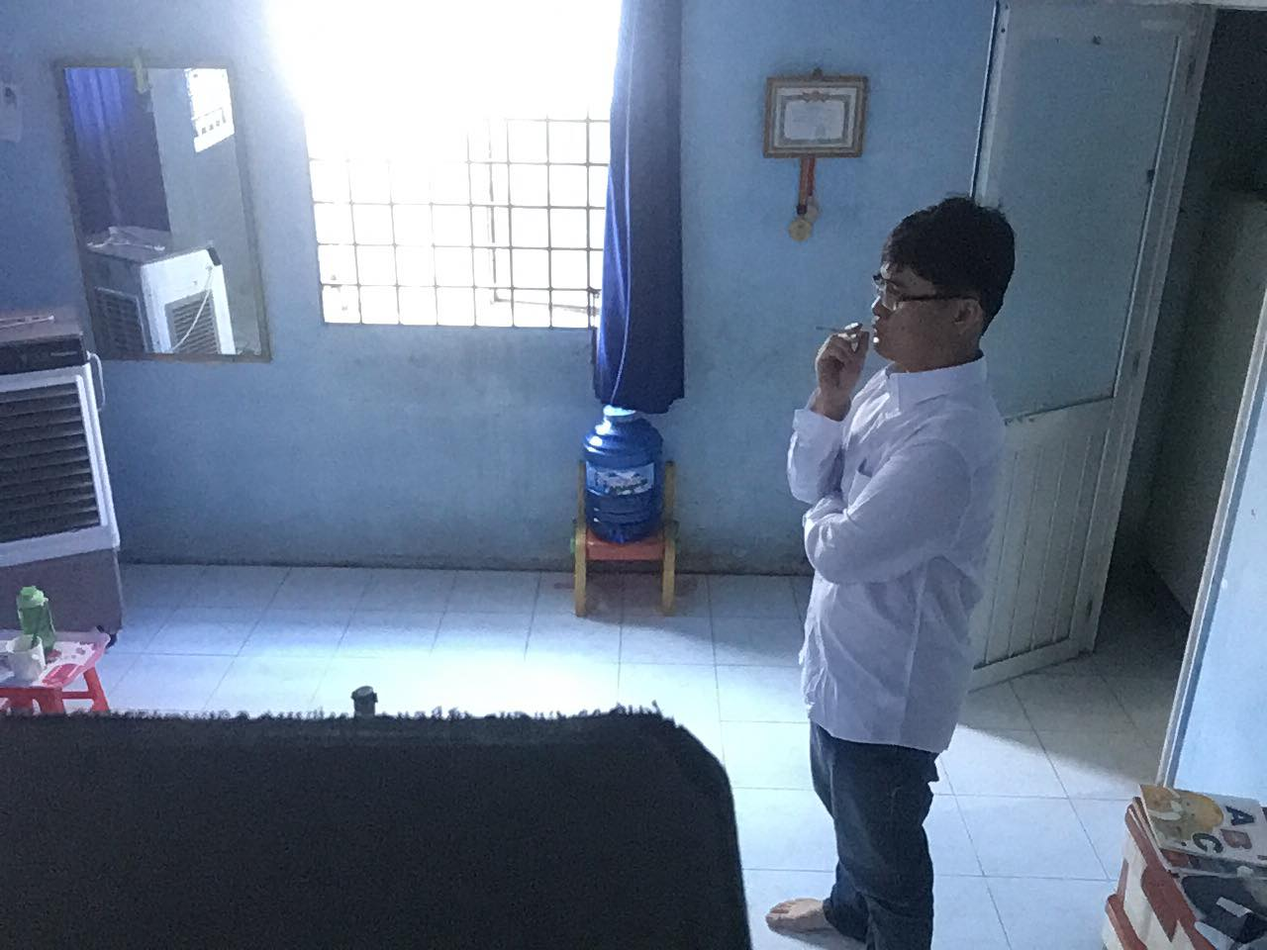cigarette: (813, 319, 868, 340)
person: (753, 182, 1057, 950)
